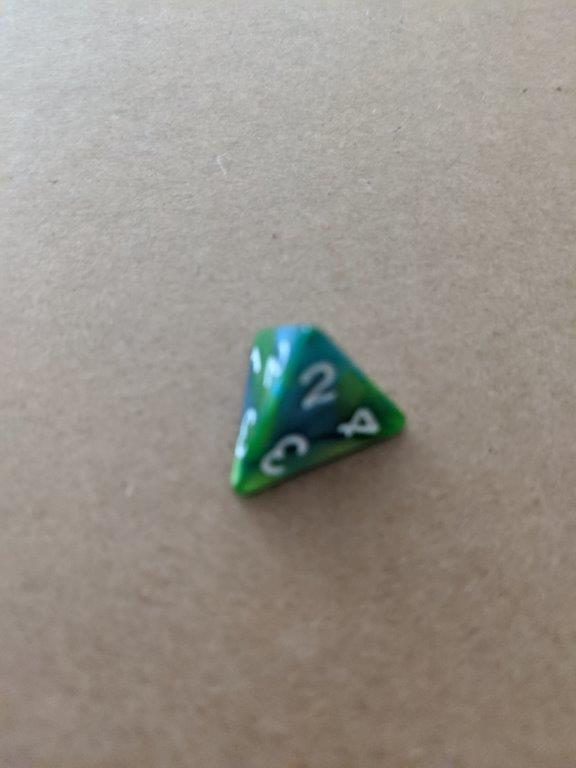d4-2: (214, 318, 418, 513)
